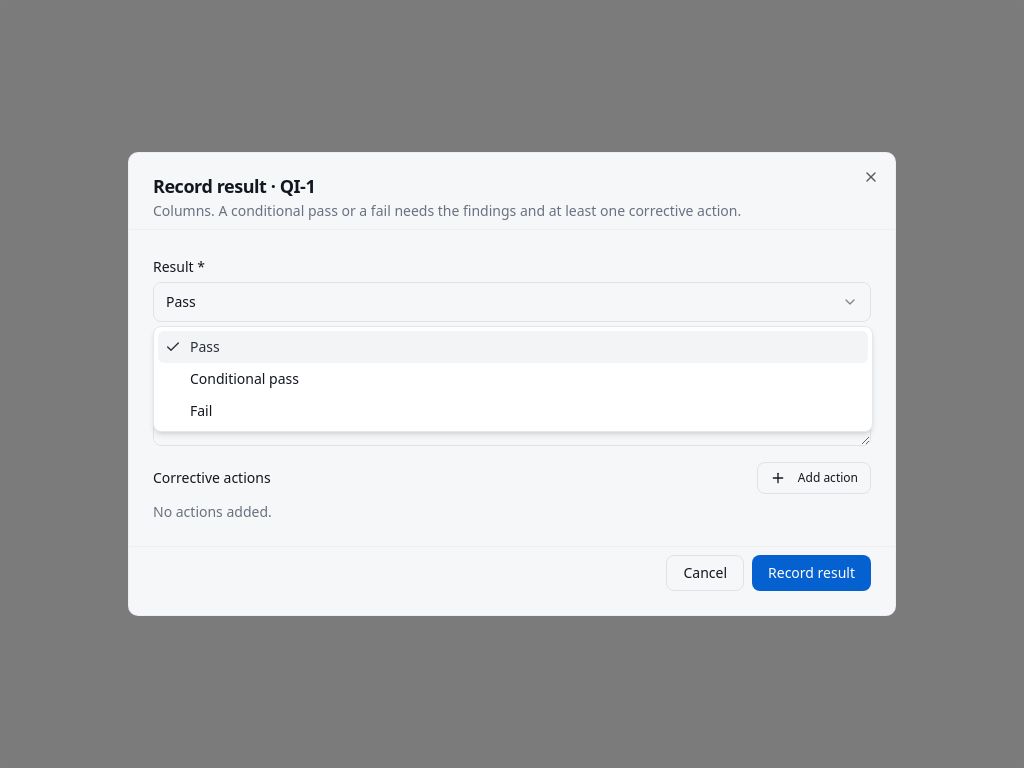
Recording a quality result › a fail needs findings and an action, which are sent with the result
Earlier steps of the test are not shown.
Later steps or results of the test are not shown.
Click the option "Fail". click: click(201, 410)
box: [190, 401, 212, 420]
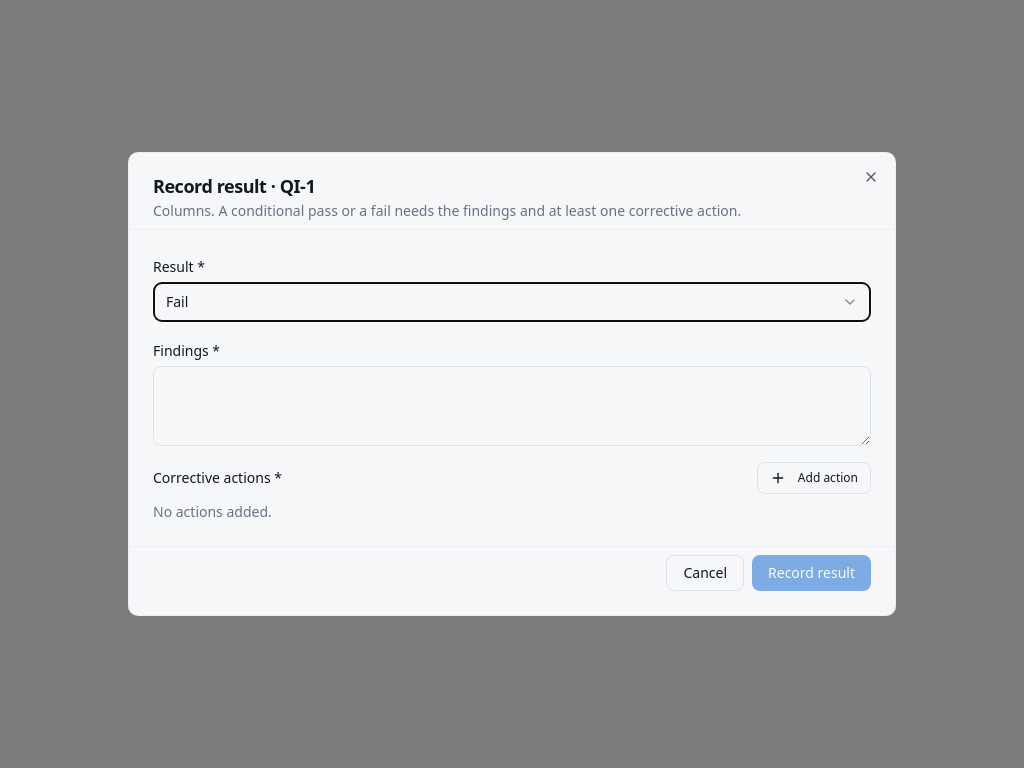
Result: the button "Record result" is disabled at [752, 555, 871, 591]
Type "Honeycombing at C4" into the text box labelled "Findings *". click: (512, 406)
box: [153, 366, 871, 446]
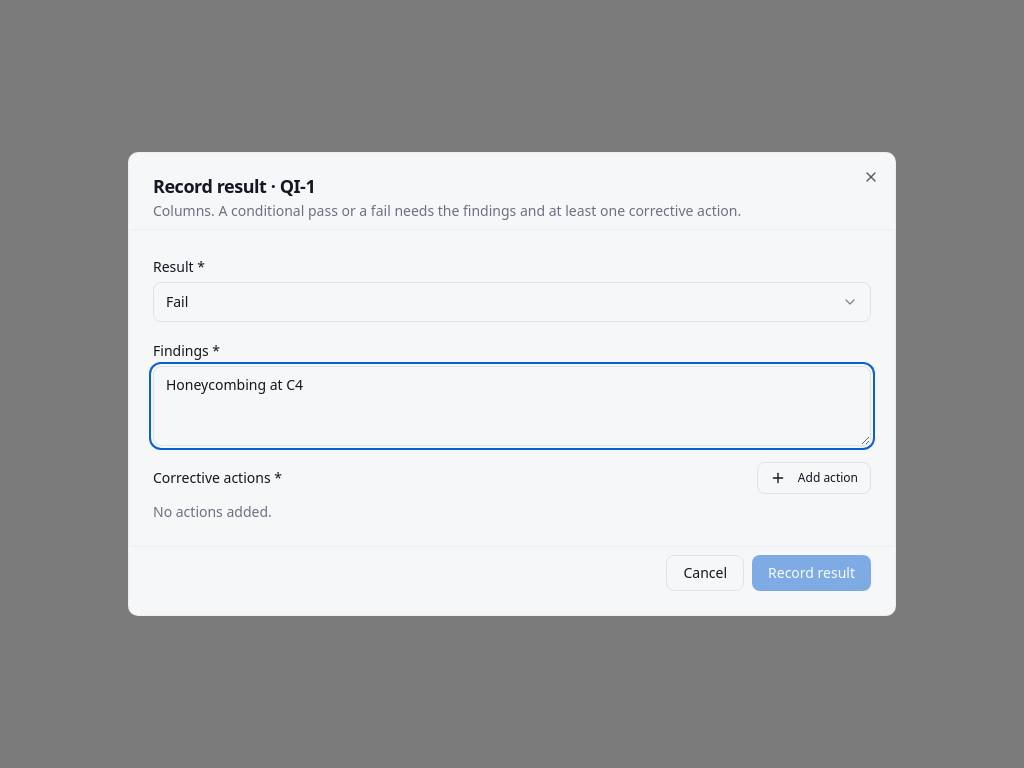
Result: the button "Record result" is disabled at [752, 555, 871, 591]
Click the button "Add action". click: click(814, 478)
box: [757, 462, 871, 494]
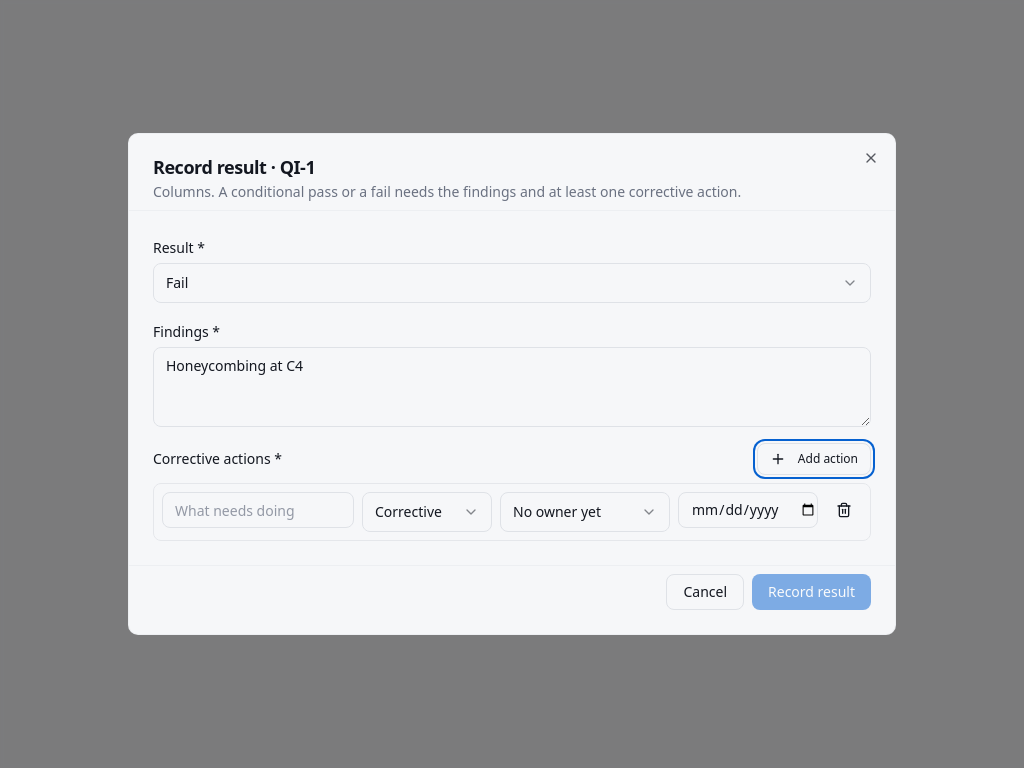
Type "Grout and repair C4" into the field named "Action 1". click: (258, 510)
box: [162, 492, 354, 528]
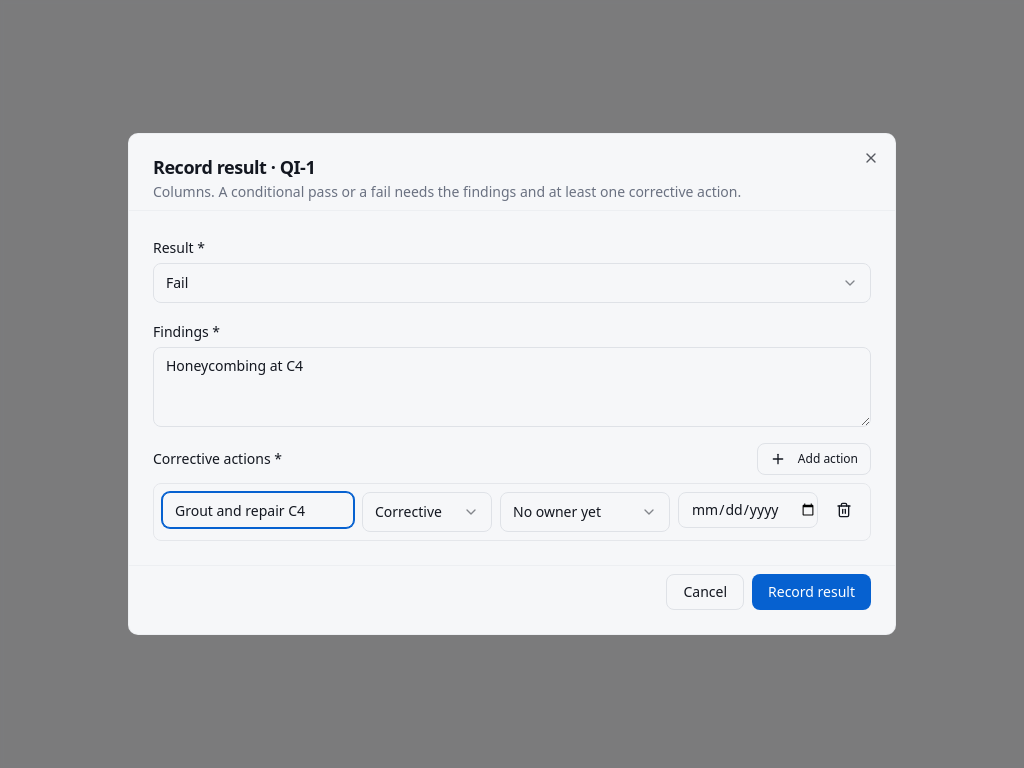
Click the dropdown named "Action 1 owner". click: click(585, 512)
box: [500, 492, 670, 532]
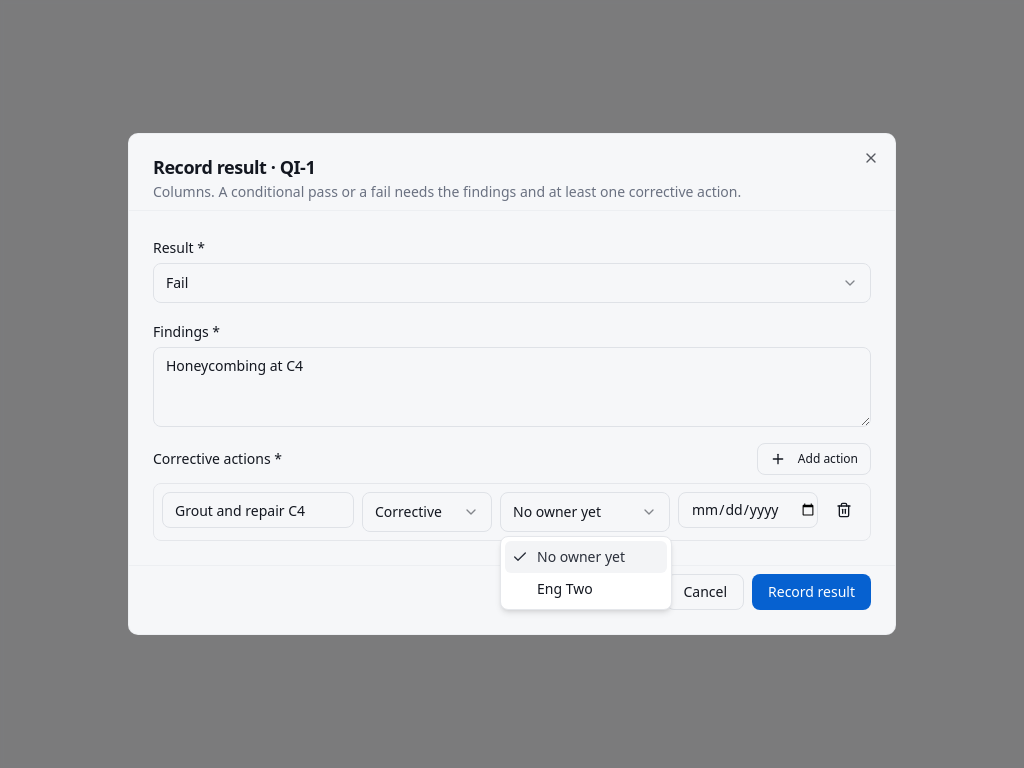
Click the option "Eng Two". click: click(565, 588)
box: [537, 579, 593, 598]
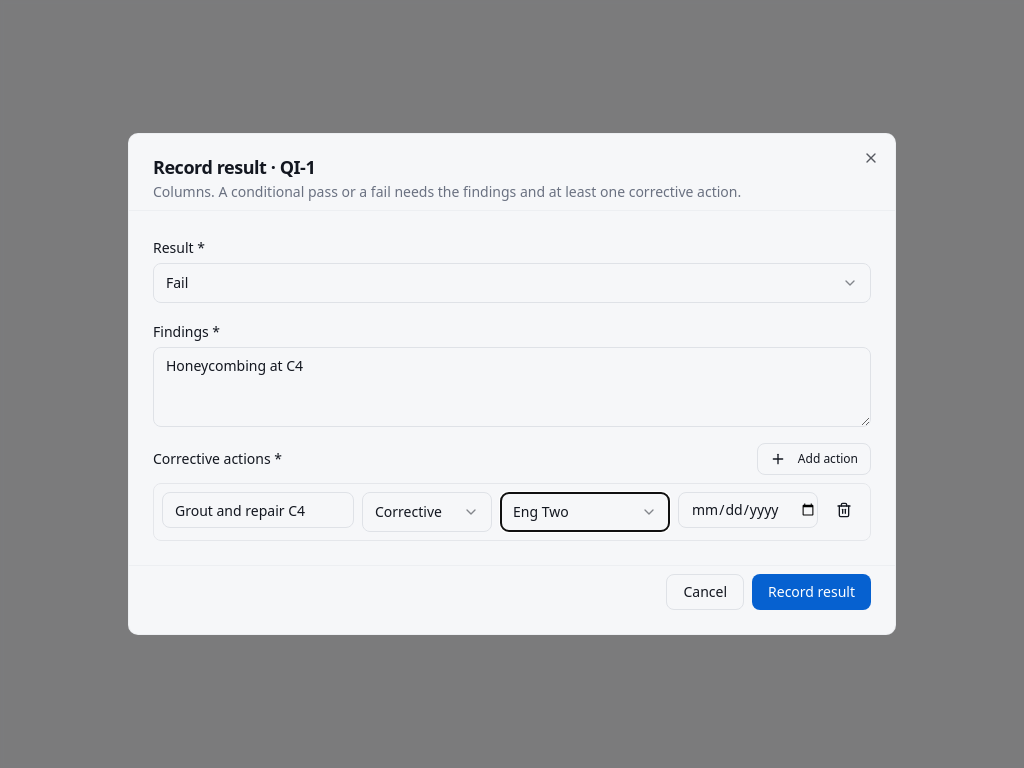
Result: the button "Record result" is enabled at [752, 574, 871, 610]
